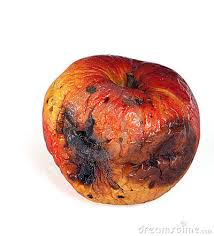damaged_apple: (44, 55, 198, 205)
